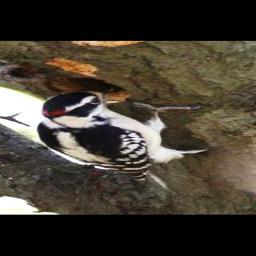Woodpecker: (37, 87, 208, 187)
